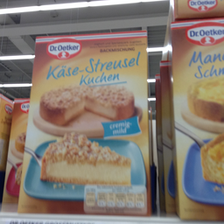cake: (19, 30, 152, 221), (161, 21, 224, 222)
